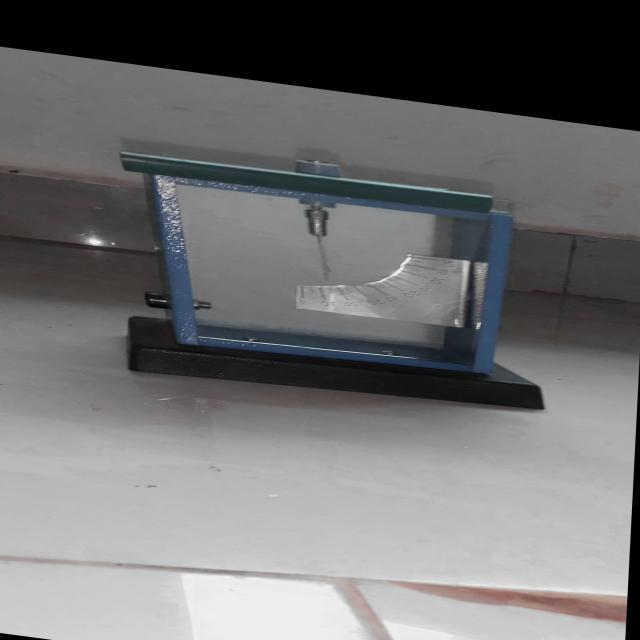Electroscope: (79, 116, 566, 439)
